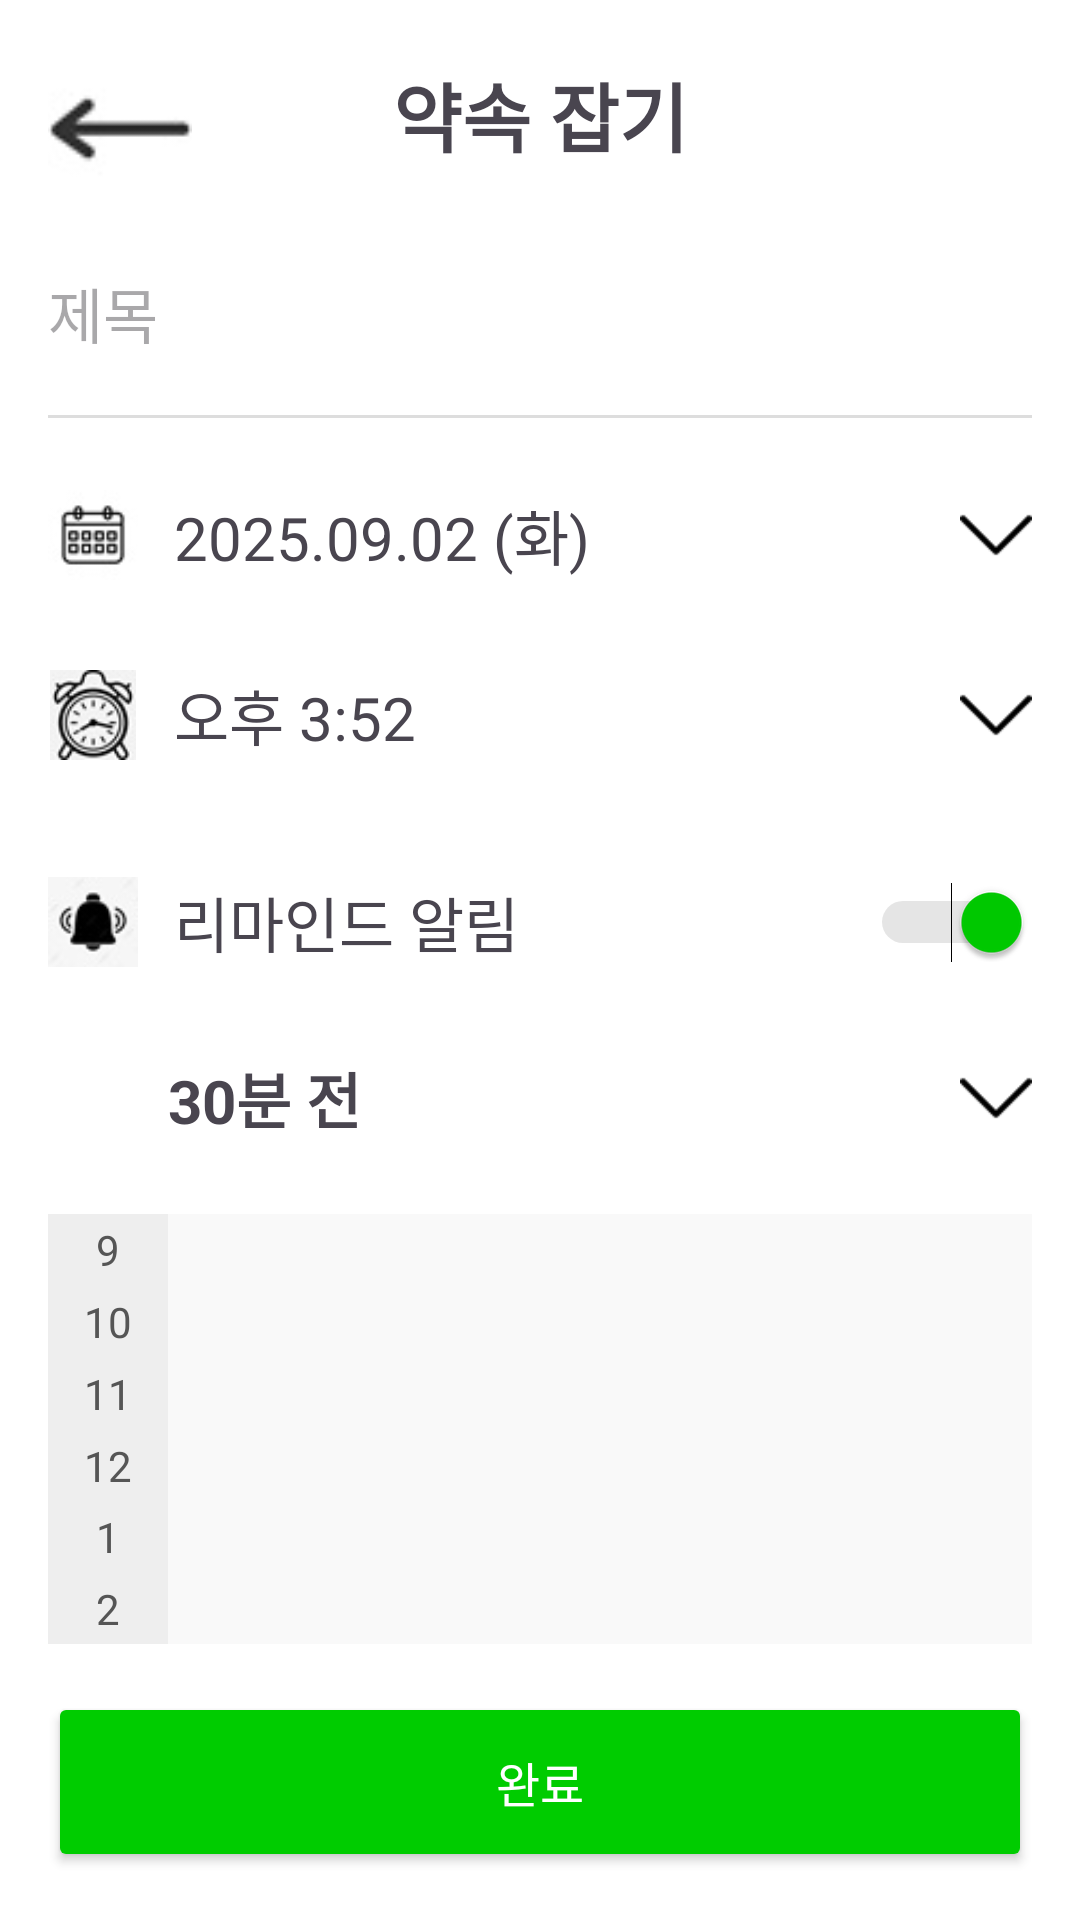

Screen size 1080x1920. Icon name, then its box in pixels as (x1, y1, x2, y2):
alarm: (58, 892, 128, 952)
calendar: (61, 505, 125, 565)
timemer: (52, 670, 134, 760)
뒤로가기: (50, 98, 192, 161)
